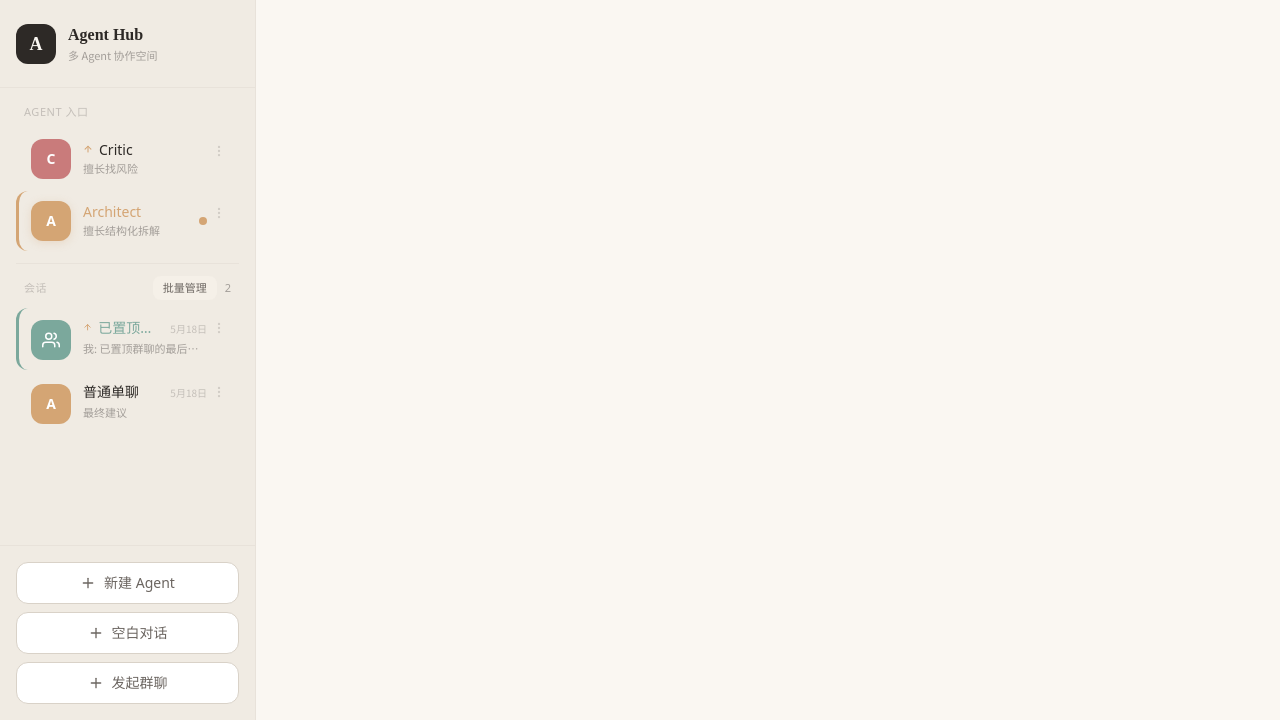
Scenario: ConversationSidebar › 批量管理模式支持勾选并弹出批量删除确认
Click the button "批量管理". click: x=185, y=288
box: [153,276,217,300]
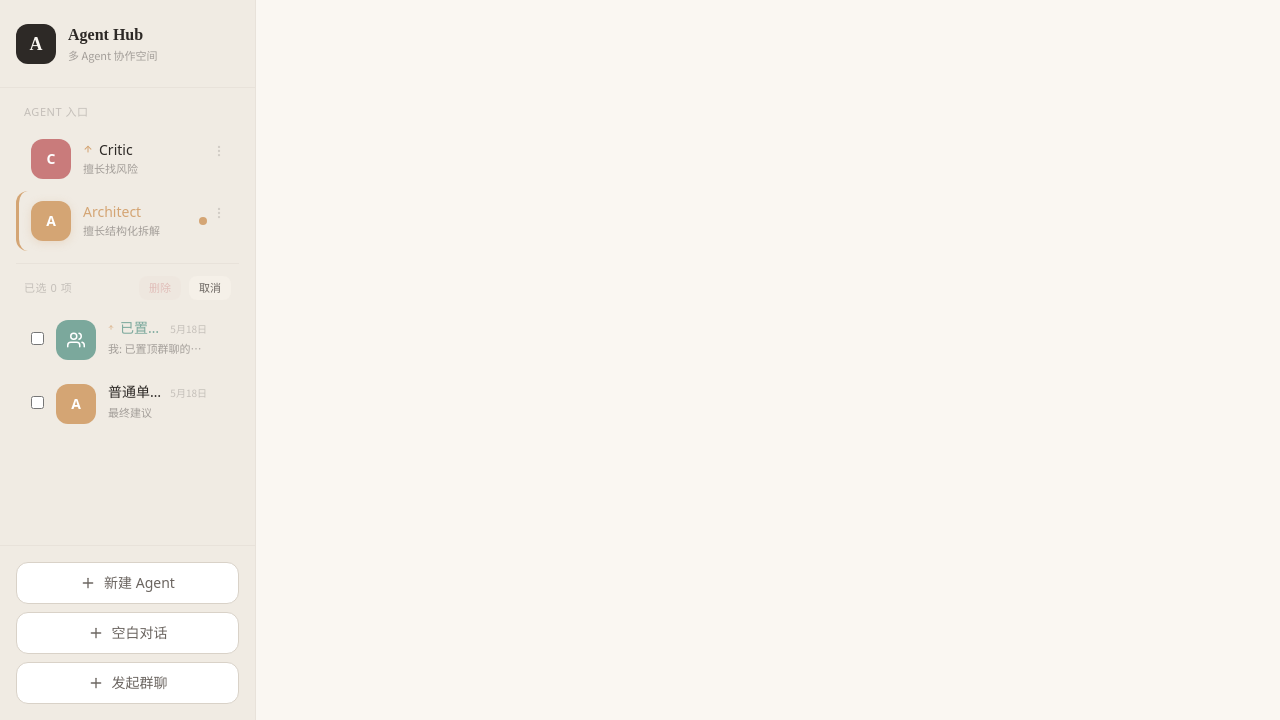
Click the checkbox named "选择会话 已置顶群聊". click: x=38, y=338
box: [31,332,44,345]
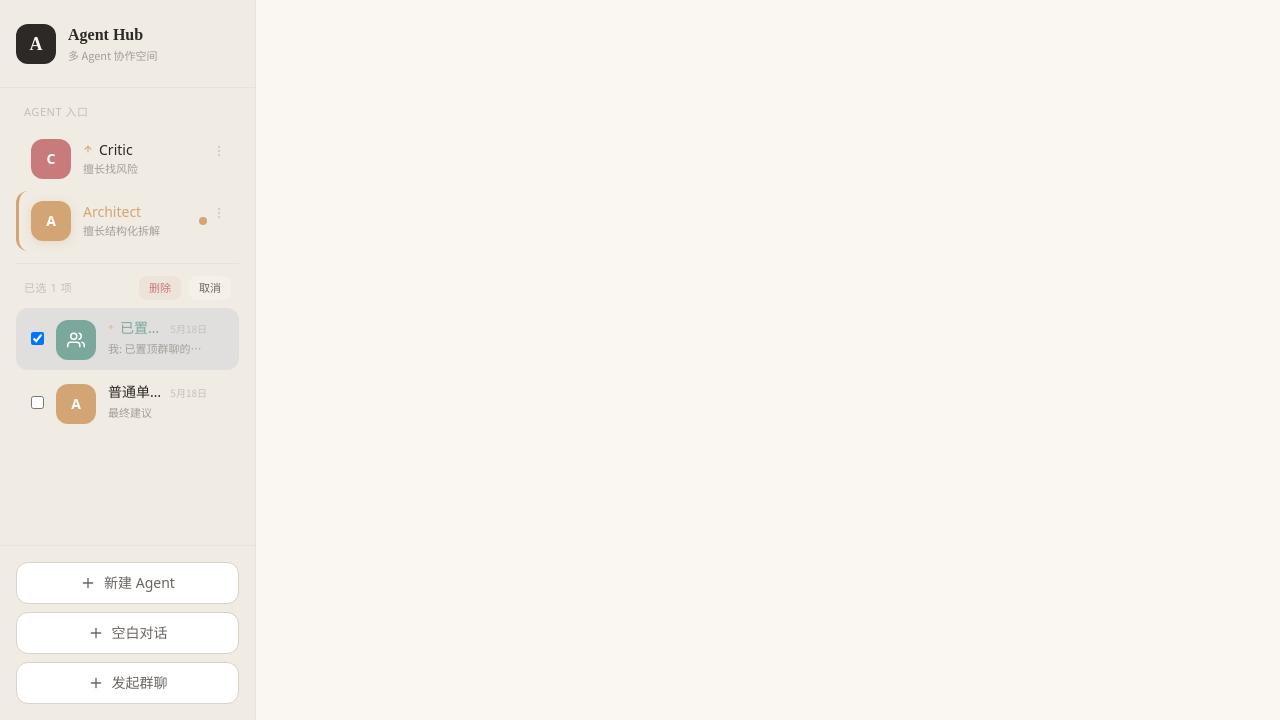
Click the button "删除". click: x=160, y=288
box: [139,276,181,300]
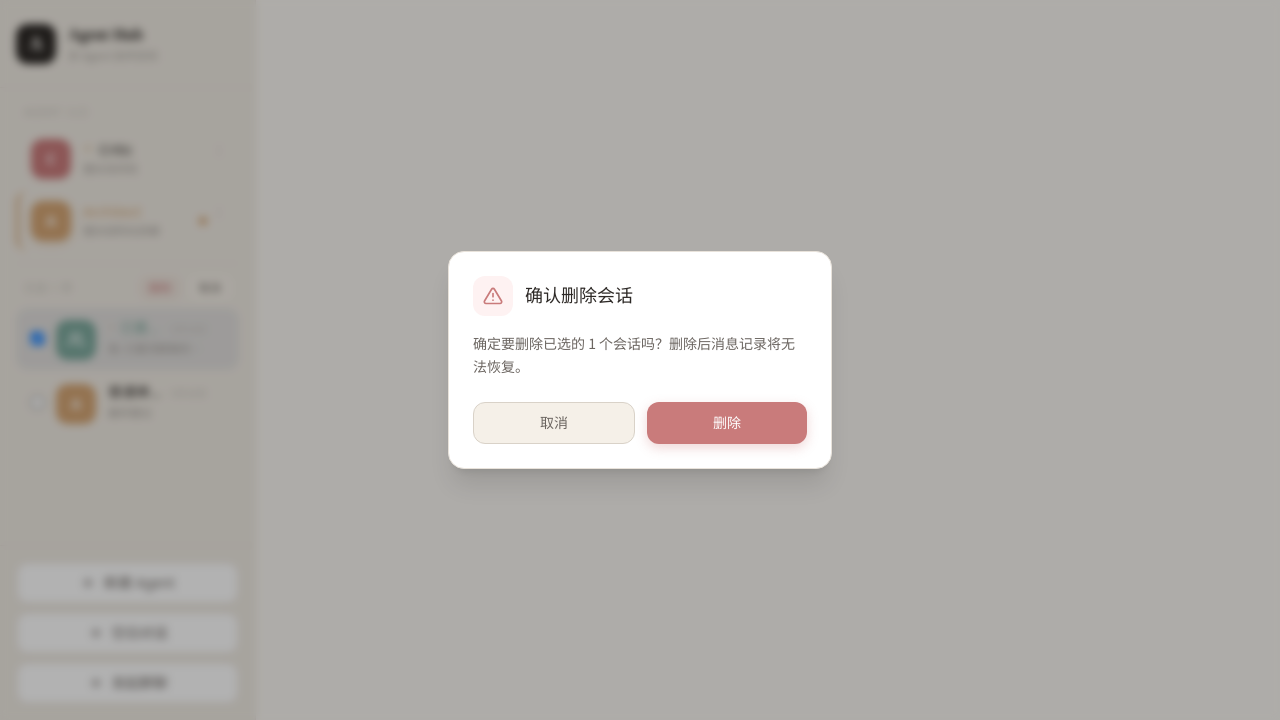
Now the heading "确认删除会话" is shown, box [525,282,633,310]
Now the text "确定要删除已选的 1 个会话吗？删除后消息记录将无法恢复。" is shown, box [473,332,807,378]
